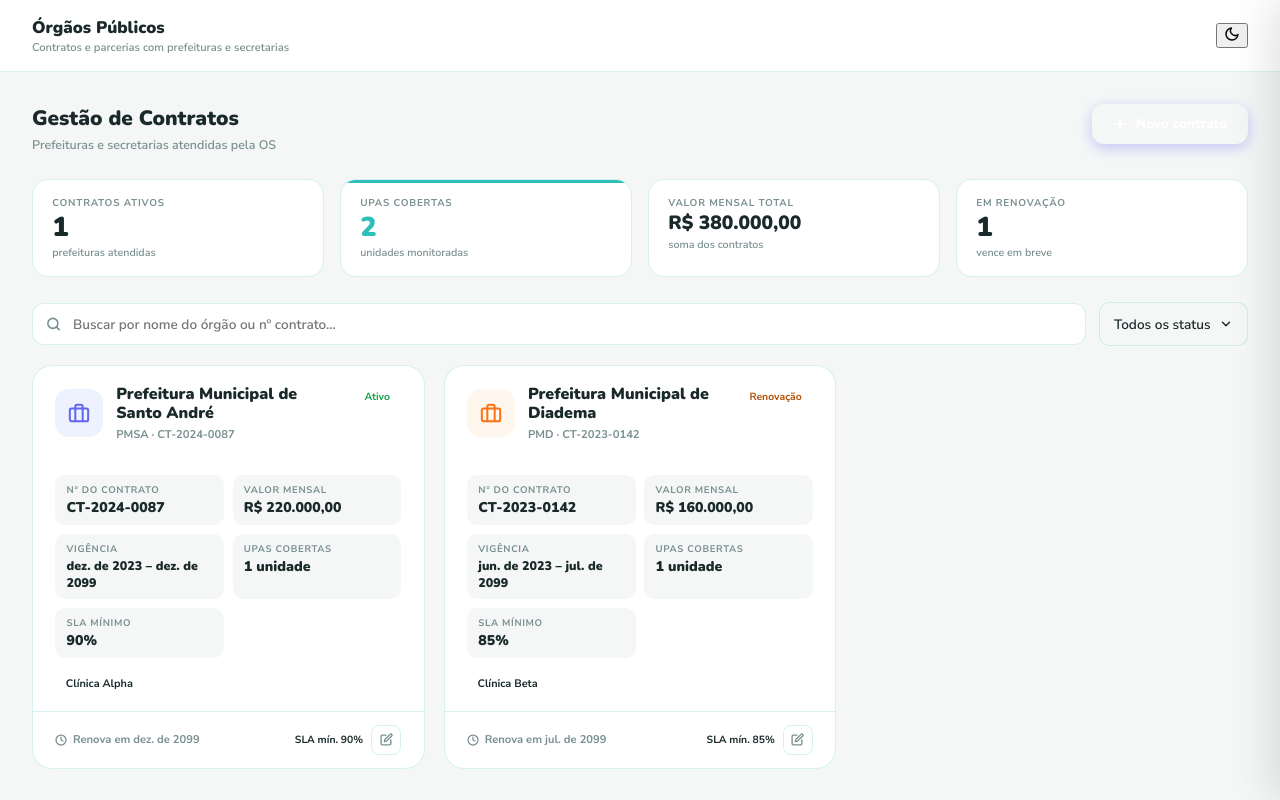
<AdminOrgaos /> › busca por nome filtra cards
This screenshot has width=1280, height=800.
expect the text "Prefeitura Municipal de Santo André" is shown: met, box [116,383,297,424]
Type "Diadema" into the field with placeholder "Buscar por nome do órgão ou nº contrato...". click: (559, 324)
box: [32,303,1086,345]
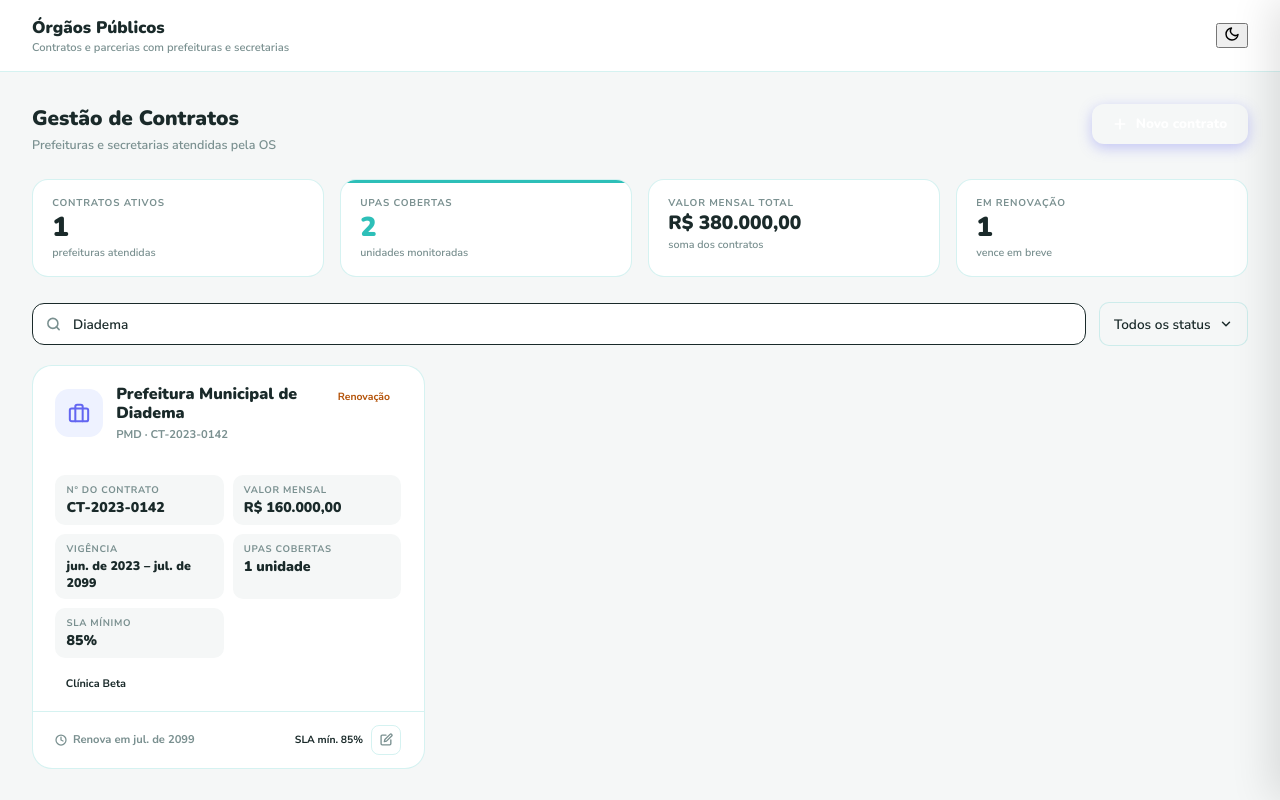
expect the text "Prefeitura Municipal de Diadema" is shown: met, box [116,385,314,424]
expect the text "Prefeitura Municipal de Santo André" is gone: met
